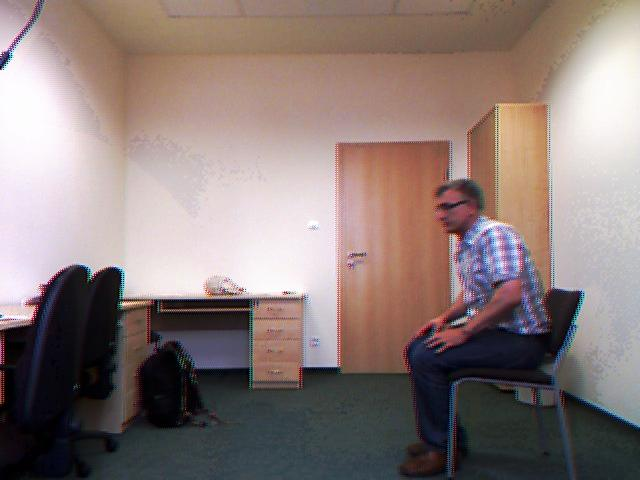sitting: (371, 173, 564, 480)
